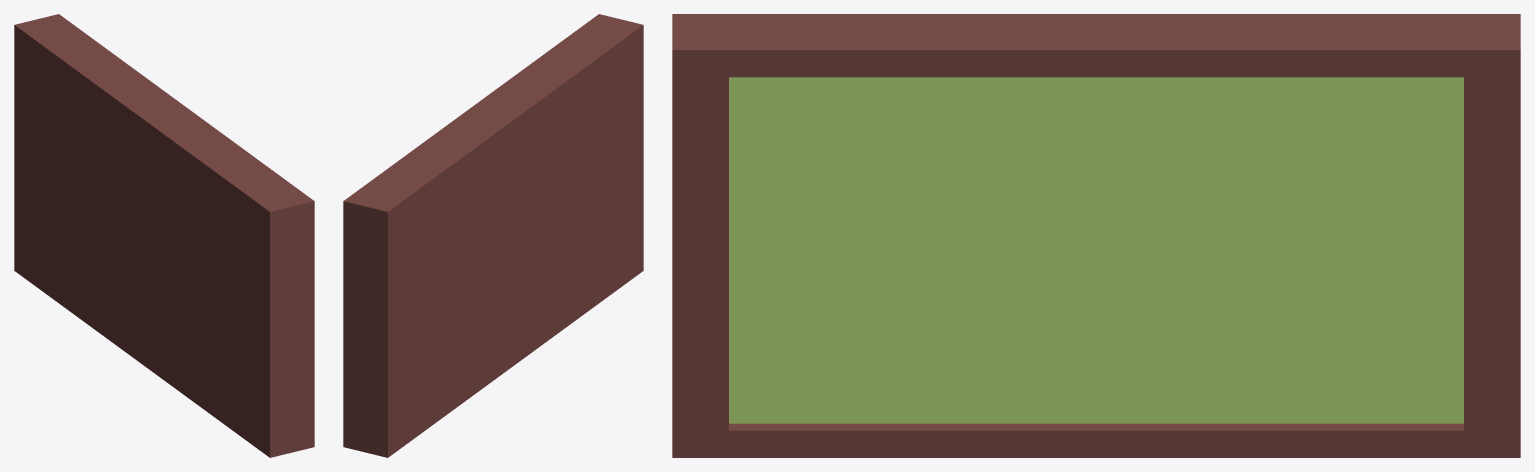
The model's file is Frame.fbx.
3 views of the same model, side by side, from view 1: azimuth 30°, elevation 25°; view 2: azimuth 150°, elevation 25°; view 3: azimuth 270°, elevation 25° (orthographic). The views are drawn at different scales.
Parts seen in each view (by area): view 1: Cube.001; view 2: Cube.001; view 3: Cube.001.
Part boxes in pixels (left/top/right/bottom): Cube.001: left=14, top=14, right=314, bottom=457; Cube.001: left=343, top=14, right=643, bottom=457; Cube.001: left=672, top=14, right=1520, bottom=457.
Bounding box in the file's own units: 35.18 × 186 × 350.
